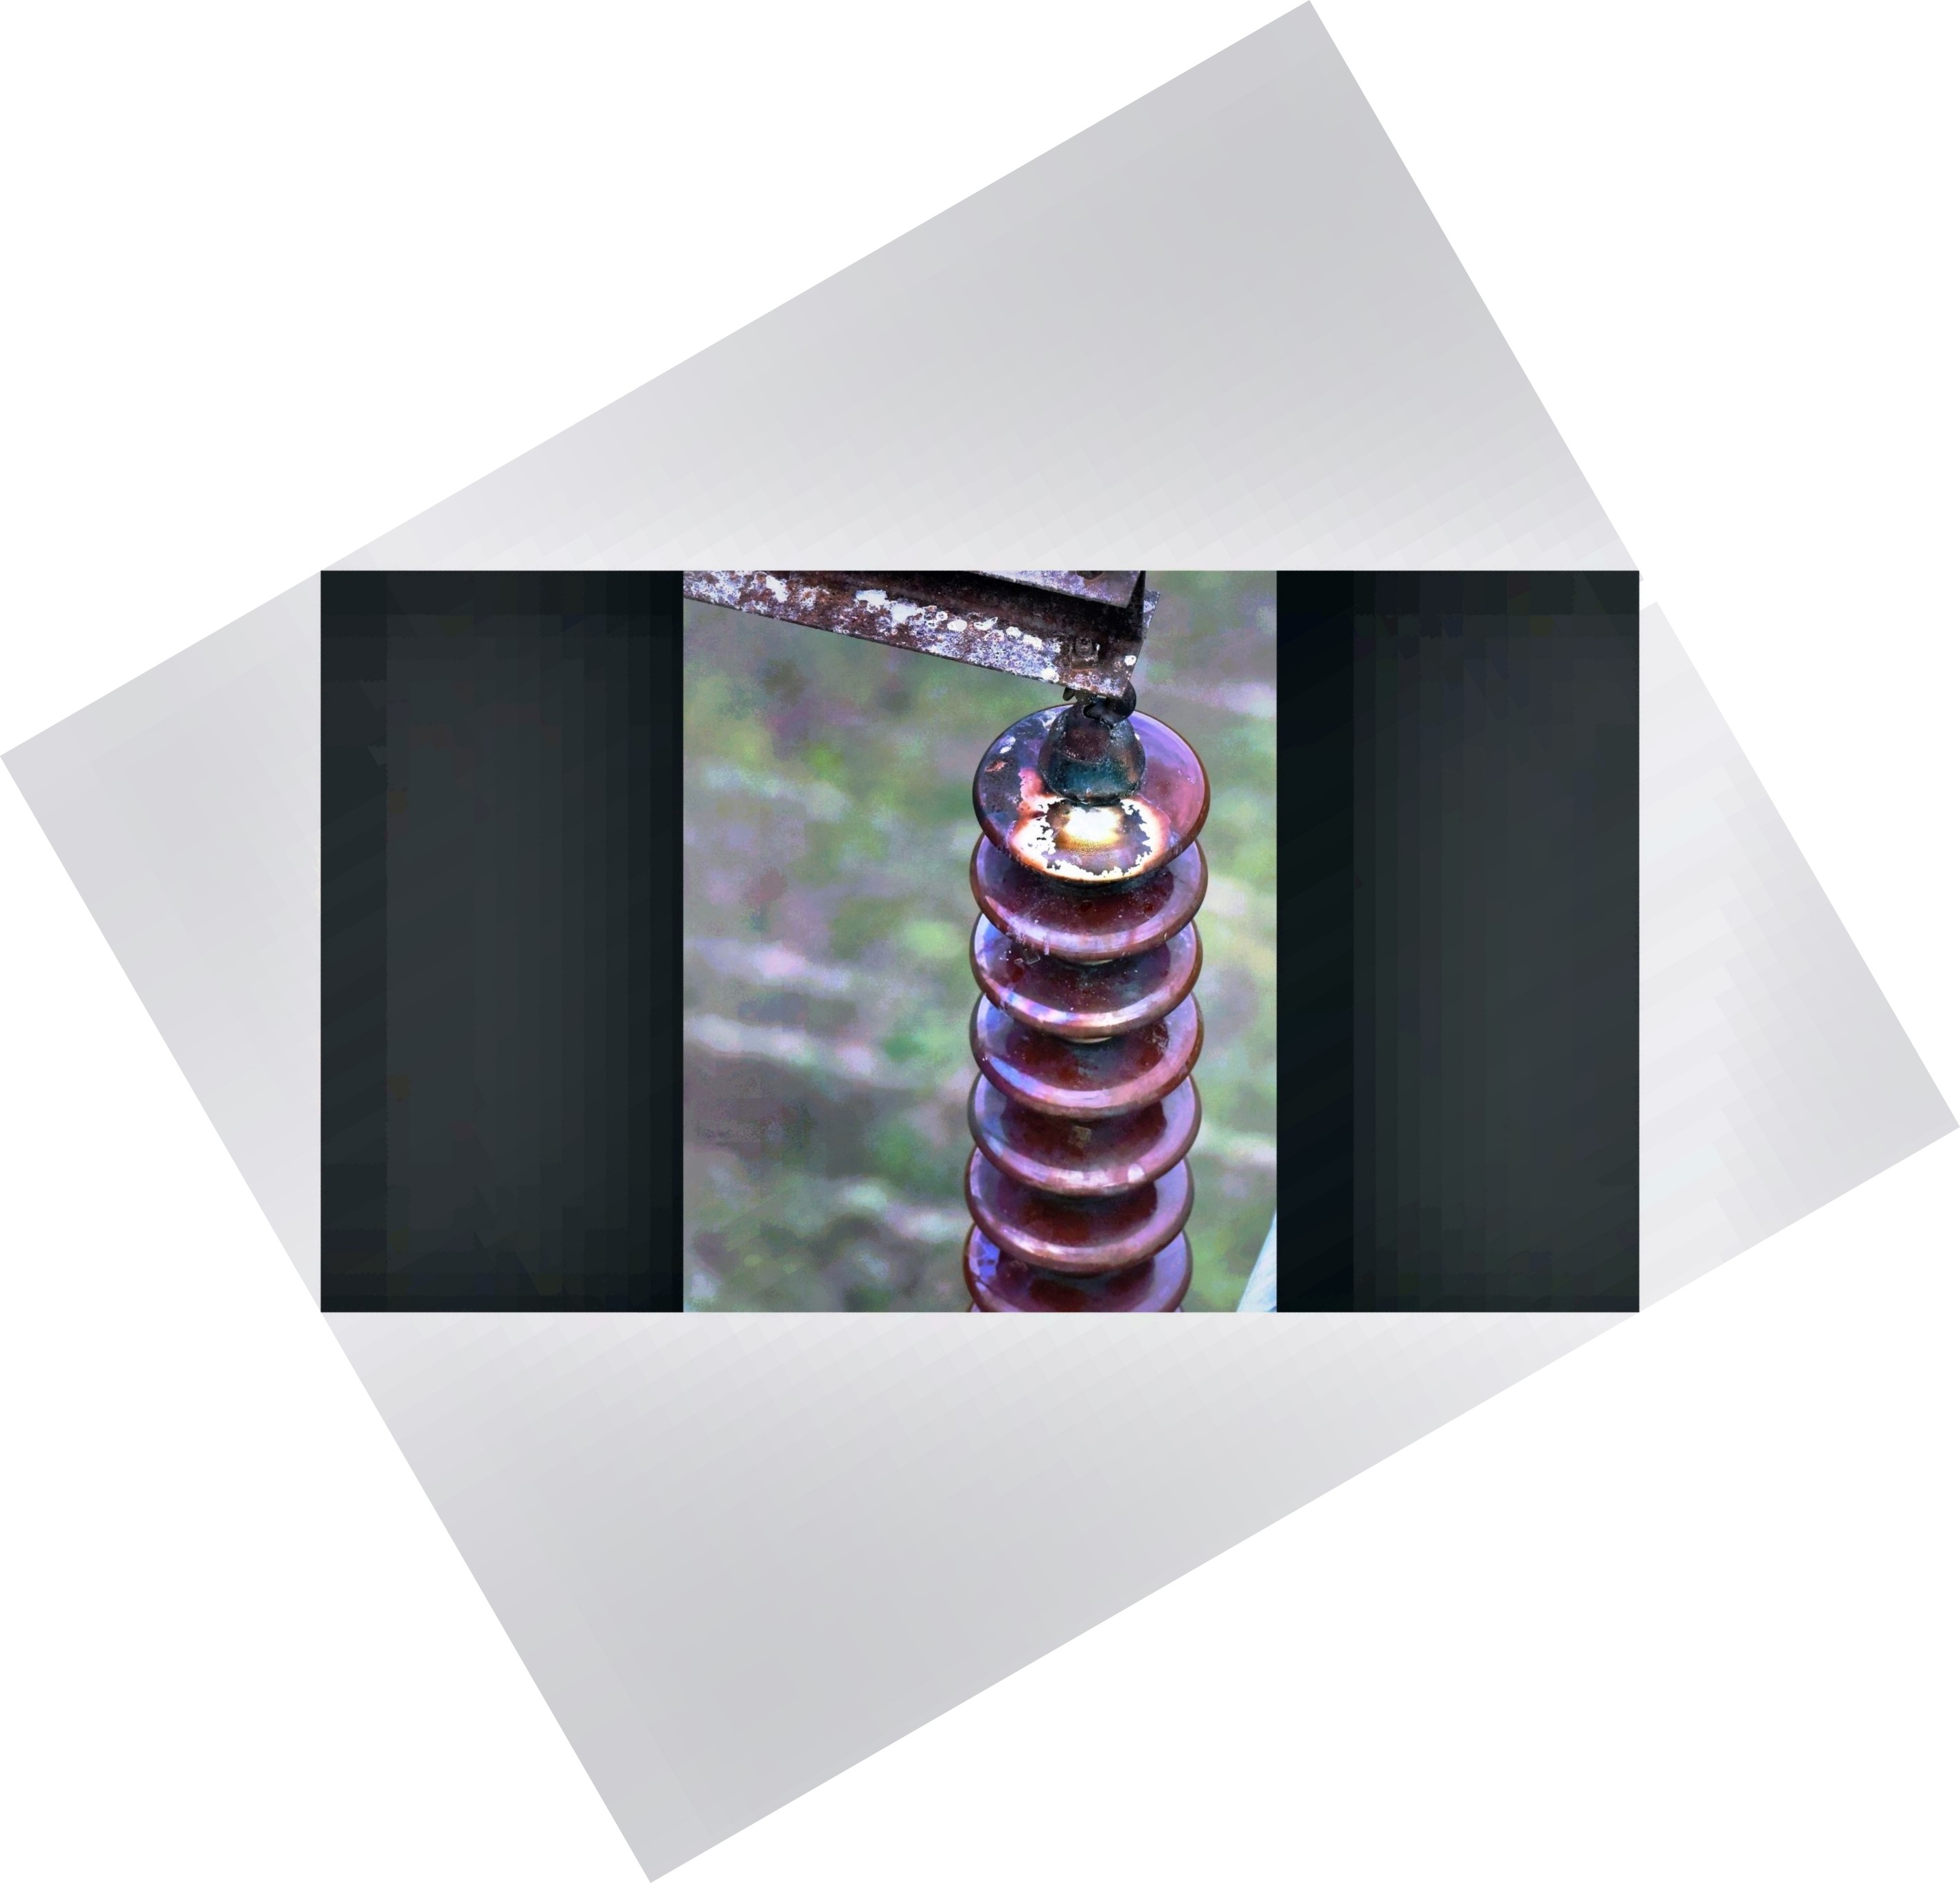Insulator flashover: (947, 689, 1232, 903)
